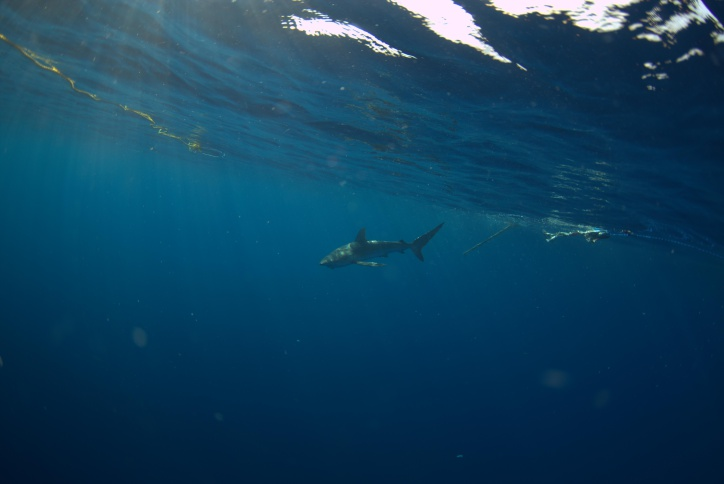Sedoso: (310, 213, 450, 284)
